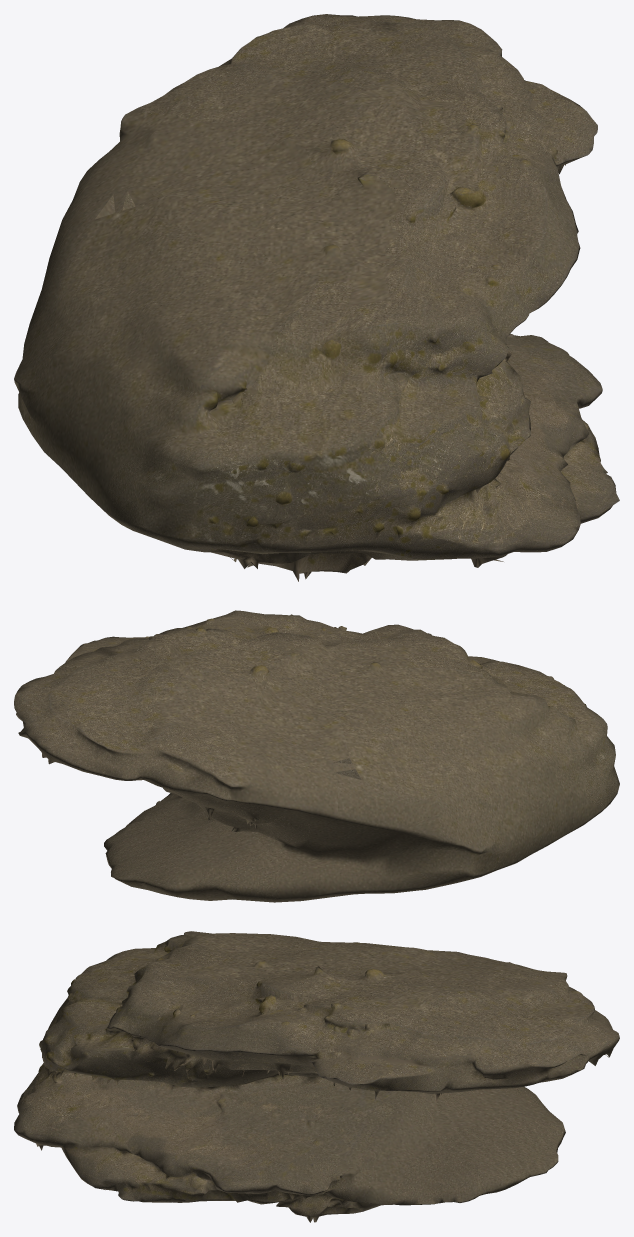
File: nat-rock-c_optimized.glb
3 renders of one model, top to bottom at view 1: azimuth 30°, elevation 25°; view 2: azimuth 150°, elevation 25°; view 3: azimuth 270°, elevation 25°, orthographic. The views are drawn at different scales.
Visible parts, largest first — view 1: Mesh_0; view 2: Mesh_0; view 3: Mesh_0.
Boxes of the visible parts, x1,y1,x2,y2 form: Mesh_0: [14, 14, 619, 581]; Mesh_0: [14, 610, 619, 902]; Mesh_0: [14, 931, 619, 1222].
Size of the model in its own units: 0.8091 by 0.3638 by 0.9526.
1 material, 1 textured.
